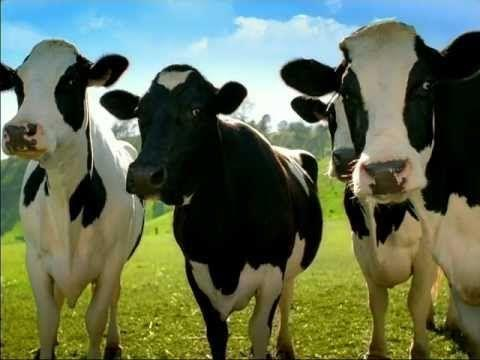cow: (102, 55, 332, 312)
